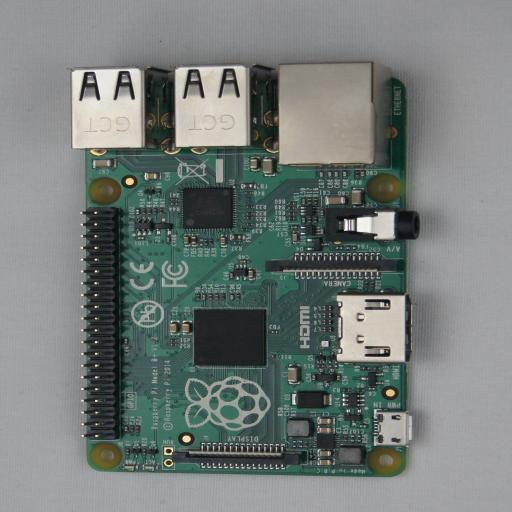Raspberry Pi 1 B-: (70, 59, 426, 477)
